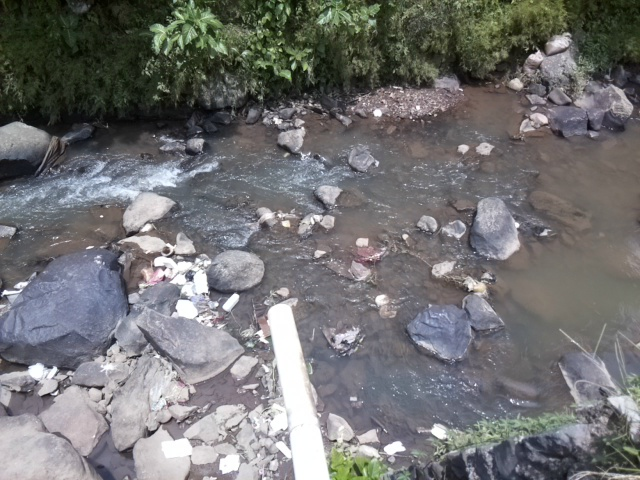Sampah_Plastik: (356, 245, 383, 264), (179, 279, 197, 301), (28, 362, 47, 382), (142, 268, 164, 285)
Sampah_Styrofoam: (160, 438, 193, 459), (157, 258, 193, 275), (172, 299, 201, 320), (217, 451, 242, 475), (221, 290, 241, 314), (195, 268, 208, 297)
